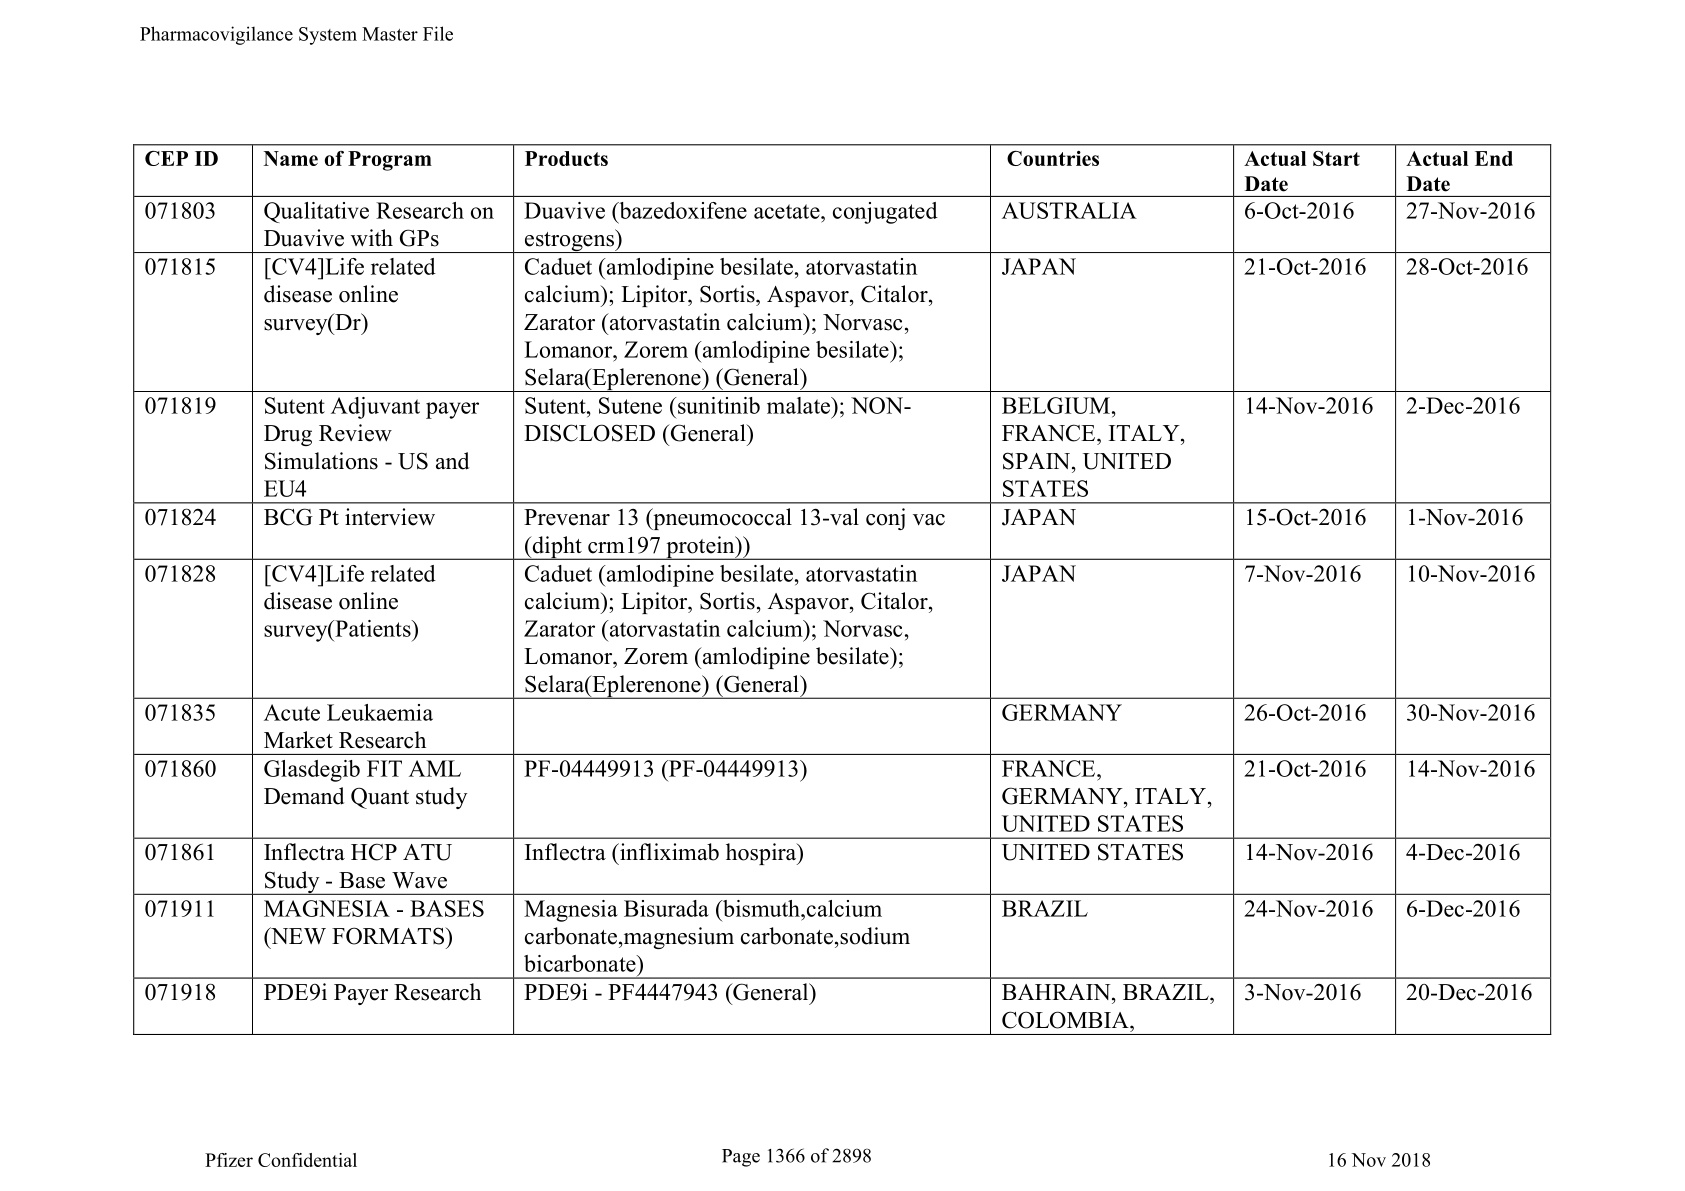full_lined: (131, 142, 1552, 1036)
